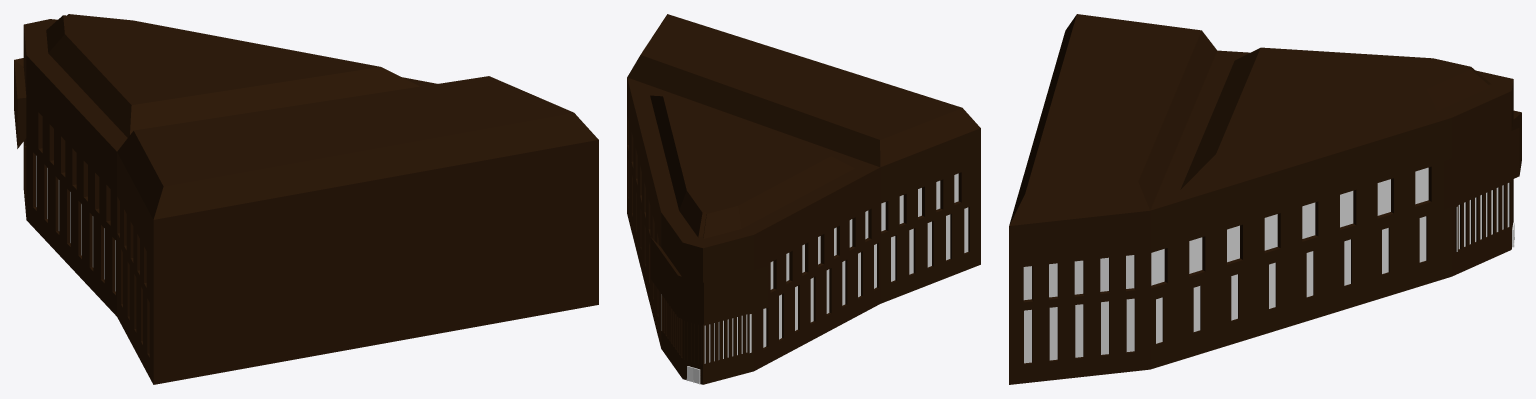
File: AlessandraVittanoSTMStore.fbx
3 renders of one model, left to right at view 1: azimuth 30°, elevation 25°; view 2: azimuth 150°, elevation 25°; view 3: azimuth 270°, elevation 25°, orthographic. The views are drawn at different scales.
Visible parts, largest first — view 1: AlessandraVittanoStore; view 2: AlessandraVittanoStore; view 3: AlessandraVittanoStore.
Part boxes in pixels (left/top/right/bottom): AlessandraVittanoStore: left=14, top=14, right=598, bottom=384; AlessandraVittanoStore: left=627, top=14, right=980, bottom=384; AlessandraVittanoStore: left=1009, top=14, right=1521, bottom=384.
Size of the model in its own units: 5278 by 2310 by 5850.
